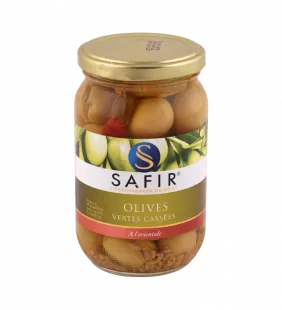SAPHIR: (68, 27, 219, 284)
